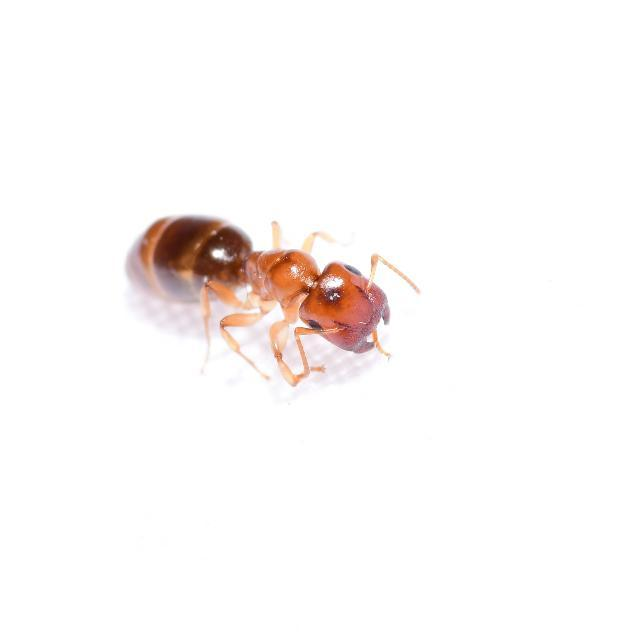Colobopsis: (118, 188, 430, 376)
